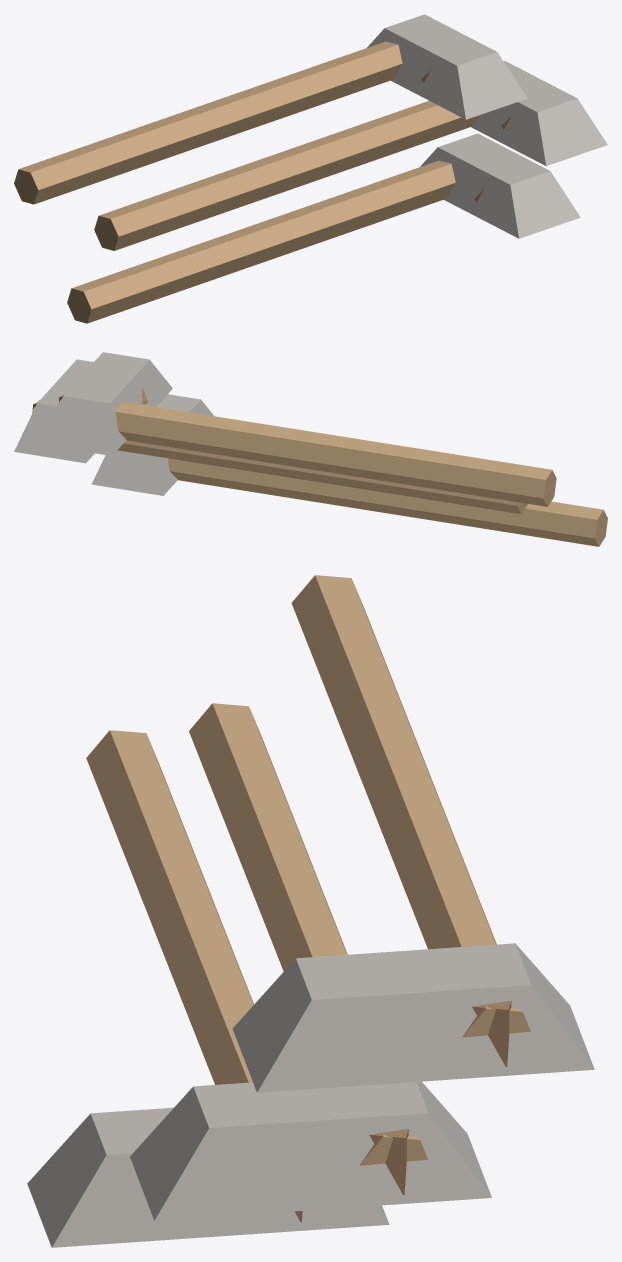
Rendered from item_005_stone_axe_m.glb.
3 renders of one model, top to bottom at view 1: azimuth 30°, elevation 25°; view 2: azimuth 150°, elevation 25°; view 3: azimuth 270°, elevation 25°, orthographic. The views are drawn at different scales.
Visible parts, largest first — view 1: item_005_stone_axe_m; view 2: item_005_stone_axe_m; view 3: item_005_stone_axe_m.
Part boxes in pixels (left/top/right/bottom): item_005_stone_axe_m: left=14, top=14, right=607, bottom=323; item_005_stone_axe_m: left=14, top=352, right=607, bottom=546; item_005_stone_axe_m: left=27, top=575, right=594, bottom=1247.
Bounding box in the file's own units: 0.7039 × 0.1594 × 0.3318.
